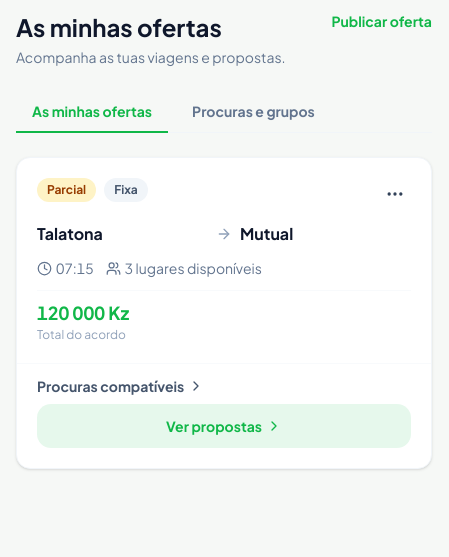
PACOTE ENG #27 — hub motorista todas procuras + toggle › ENG27-3: card oferta mantém atalho «Procuras compatíveis» (activa filtro)
Expected: the text "Talatona" is shown, [37,223,103,244]
Click the button "Procuras compatíveis" at x=121, y=386, box [37,376,204,396]
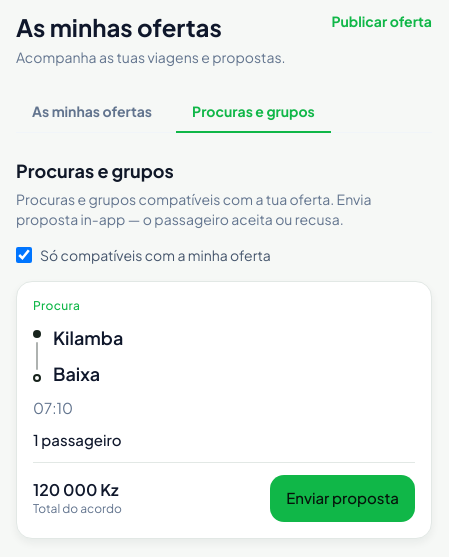
Expected: the element with test id "driver-procuras-grupos-section" is shown
Expected: the checkbox with test id "driver-procuras-só-compatíveis" is checked, [16,247,32,263]
Expected: the text "Kilamba" is shown, [53,326,123,350]
